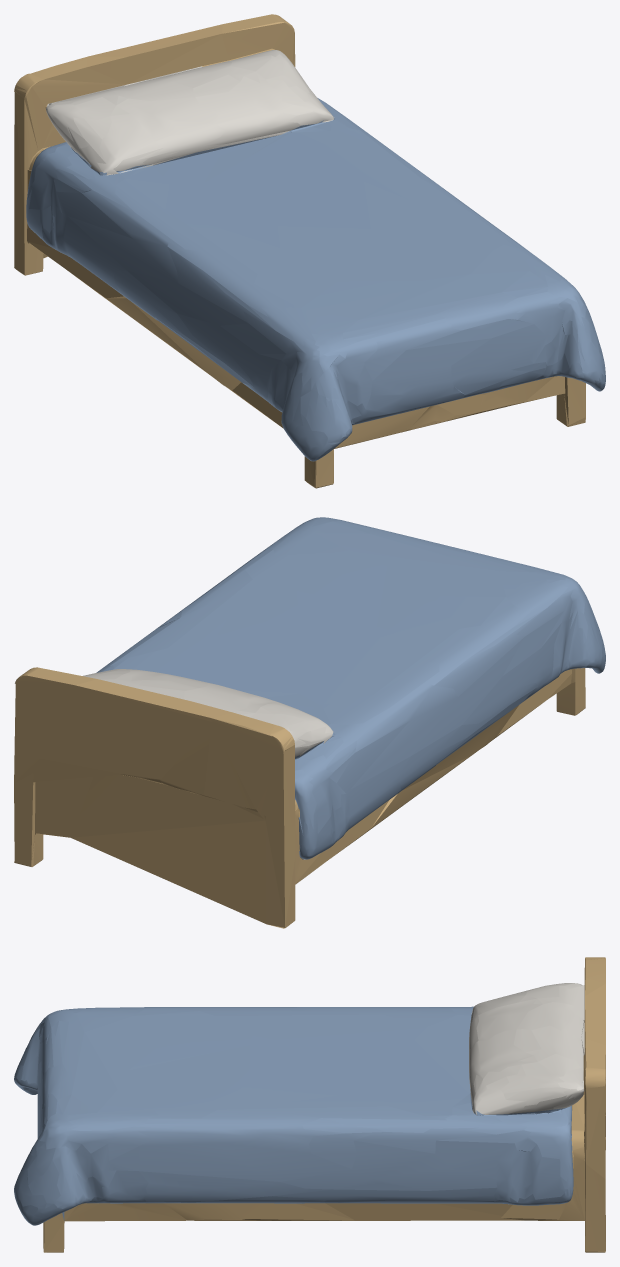
The model's file is cama.glb.
The picture shows the model from 3 angles, top to bottom: view 1: azimuth 30°, elevation 25°; view 2: azimuth 150°, elevation 25°; view 3: azimuth 270°, elevation 25°; orthographic projection. The views are drawn at different scales.
Size of the model in its own units: 1.08 by 0.6414 by 1.9.
